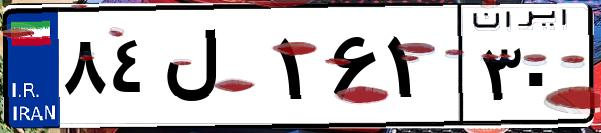0: (525, 38, 570, 115)
1: (270, 28, 330, 110), (385, 28, 445, 110)
3: (475, 38, 525, 113)
4: (110, 28, 158, 98)
6: (330, 28, 385, 110)
8: (57, 26, 110, 100)
ل: (158, 20, 270, 120)
